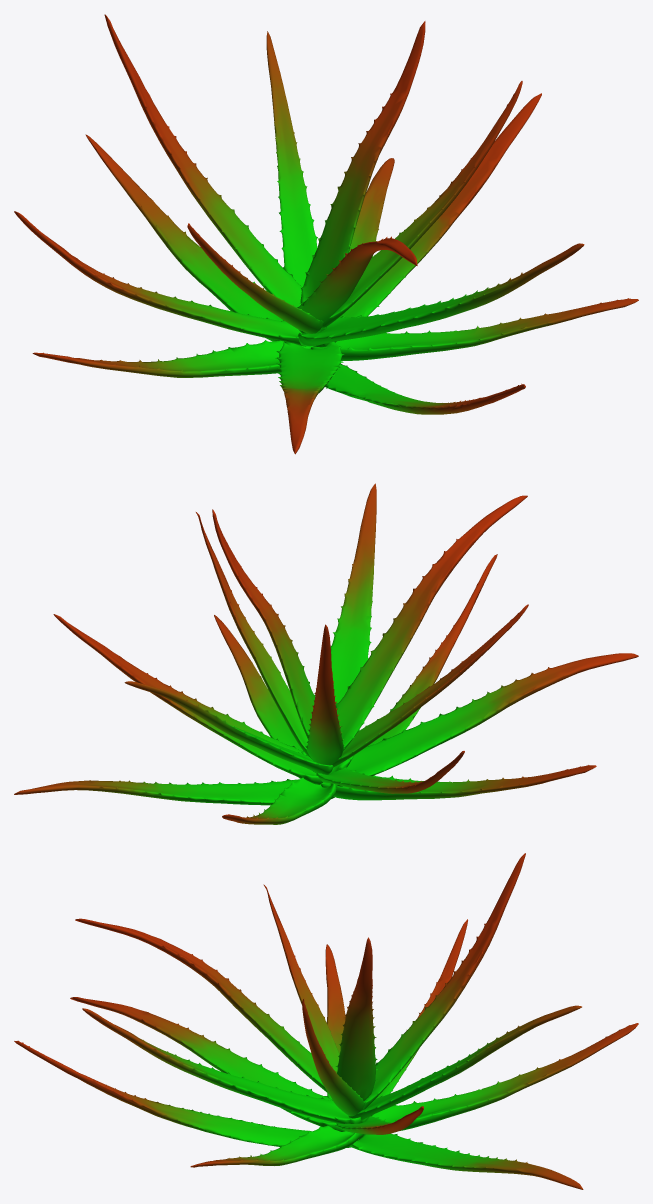
The model's file is Aloe Vera_LOD2_Var5_ve4tbbrha.fbx.
3 views of the same model, one above another, from view 1: azimuth 30°, elevation 25°; view 2: azimuth 150°, elevation 25°; view 3: azimuth 270°, elevation 25° (orthographic). The views are drawn at different scales.
Visible parts, largest first — view 1: _62mm_Var5_LOD2; view 2: _62mm_Var5_LOD2; view 3: _62mm_Var5_LOD2.
Boxes of the visible parts, box(x1,y1,x2,y2) form: _62mm_Var5_LOD2: box(14, 14, 638, 454); _62mm_Var5_LOD2: box(14, 483, 638, 824); _62mm_Var5_LOD2: box(14, 853, 638, 1189).
Size of the model in its own units: 82.8 by 43.71 by 95.55.
